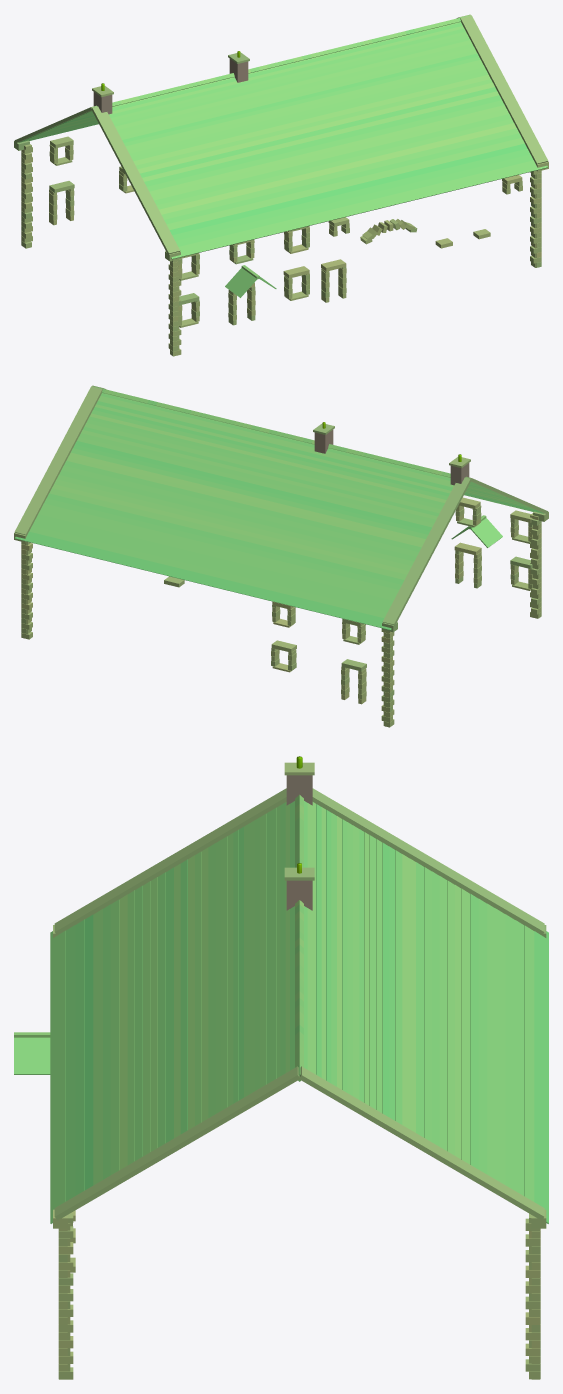
The model's file is SM_Bld_051_Stone.glb.
3 views of the same model, one above another, from view 1: azimuth 30°, elevation 25°; view 2: azimuth 150°, elevation 25°; view 3: azimuth 270°, elevation 25° (orthographic). The views are drawn at different scales.
Parts seen in each view (by area): view 1: SM_Bld_051_Stone; view 2: SM_Bld_051_Stone; view 3: SM_Bld_051_Stone.
Boxes of the visible parts, box(x1,y1,x2,y2) form: SM_Bld_051_Stone: box(14, 14, 548, 356); SM_Bld_051_Stone: box(14, 385, 548, 727); SM_Bld_051_Stone: box(14, 756, 548, 1379).
Bounding box in the file's own units: 24.13 × 13.09 × 18.59.
